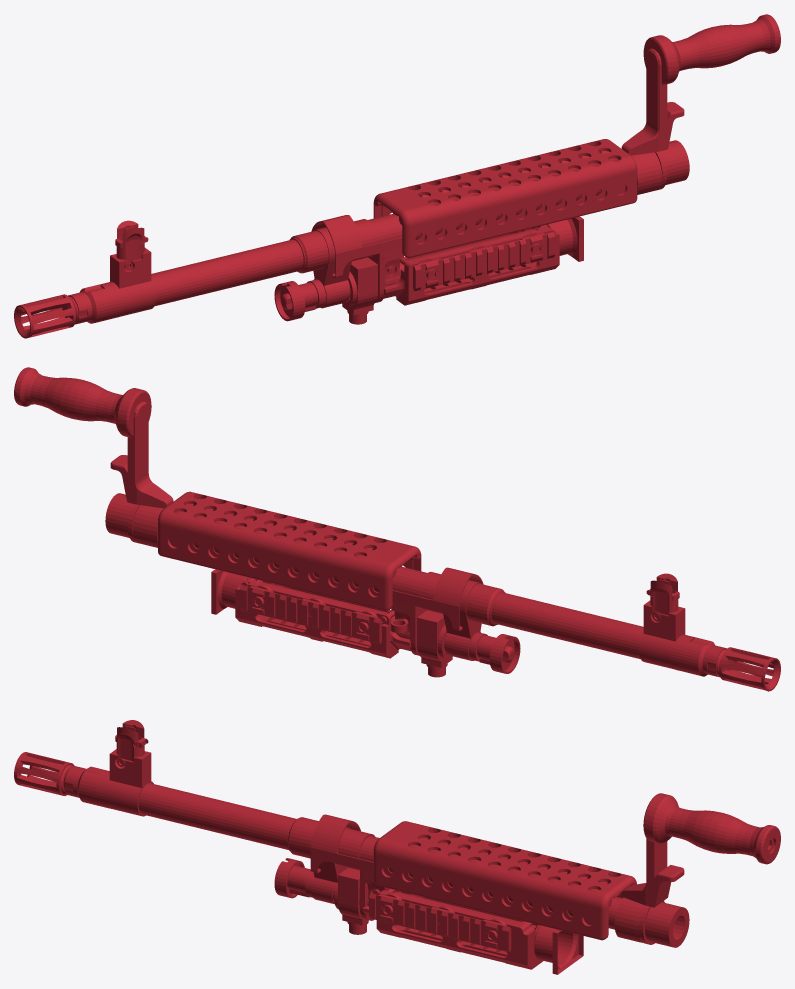
The model's file is Weapon_Portfolio_A_01.glb.
3 renders of one model, top to bottom at view 1: azimuth 30°, elevation 25°; view 2: azimuth 150°, elevation 25°; view 3: azimuth 330°, elevation 25°, orthographic.
Visible parts, largest first — view 1: HeatShield_Low_01.003, Barrel_Low_01.002, Handle_Low_03.002, FrontSight_Low_03_V2.002, Rail_Mount_Low_19.002, HeatShield_Low_02.002, Rail_Mount_Low_17.002, Handle_Low_02.003, FrontSight_Low_09.002, Gas_Regulator_Low_03.003, Barrel_Low_02.002, Support_Low_02.002 (+4 smaller); view 2: HeatShield_Low_01.003, Barrel_Low_01.002, Handle_Low_03.002, FrontSight_Low_03_V2.002, Rail_Mount_Low_21.002, HeatShield_Low_02.002, Rail_Mount_Low_17.002, Handle_Low_02.003, FrontSight_Low_09.002, Gas_Regulator_Low_03.003, Barrel_Low_02.002, Support_Low_02.002 (+4 smaller); view 3: HeatShield_Low_01.003, Barrel_Low_01.002, Handle_Low_03.002, Rail_Mount_Low_19.002, Rail_Mount_Low_17.002, HeatShield_Low_02.002, FrontSight_Low_03_V2.002, Gas_Regulator_Low_03.003, FrontSight_Low_09.002, Handle_Low_02.003, Support_Low_02.002, Barrel_Low_02.002 (+5 smaller).
Part boxes in pixels (x1,y1,x2,y2): HeatShield_Low_01.003: (373,139,637,257); Barrel_Low_01.002: (151,140,689,306); Handle_Low_03.002: (643,14,780,84); FrontSight_Low_03_V2.002: (14,281,123,338); Rail_Mount_Low_19.002: (413,232,555,291); HeatShield_Low_02.002: (311,151,625,277); Rail_Mount_Low_17.002: (383,225,559,305); Handle_Low_02.003: (621,48,667,155); FrontSight_Low_09.002: (110,247,155,316); Gas_Regulator_Low_03.003: (349,216,583,297); Barrel_Low_02.002: (307,227,351,308); Support_Low_02.002: (342,257,377,314); HeatShield_Low_01.003: (158,491,421,610); Barrel_Low_01.002: (105,493,643,658); Handle_Low_03.002: (14,367,151,437); FrontSight_Low_03_V2.002: (671,634,780,691); Rail_Mount_Low_21.002: (239,585,381,643); HeatShield_Low_02.002: (169,504,483,630); Rail_Mount_Low_17.002: (235,579,411,658); Handle_Low_02.003: (127,401,173,508); FrontSight_Low_09.002: (639,600,685,669); Gas_Regulator_Low_03.003: (211,569,445,649); Barrel_Low_02.002: (443,580,487,661); Support_Low_02.002: (417,610,452,667); HeatShield_Low_01.003: (373,821,636,940); Barrel_Low_01.002: (138,783,689,947); Handle_Low_03.002: (643,793,780,864); Rail_Mount_Low_19.002: (369,893,511,952); Rail_Mount_Low_17.002: (362,890,542,969); HeatShield_Low_02.002: (310,814,627,924); FrontSight_Low_03_V2.002: (14,752,109,808); Gas_Regulator_Low_03.003: (359,891,583,974); FrontSight_Low_09.002: (105,749,153,816); Handle_Low_02.003: (621,838,667,907); Support_Low_02.002: (334,868,368,925); Barrel_Low_02.002: (305,825,349,903).
Bounding box in the file's own units: 0.6969 × 0.1855 × 0.0749.
